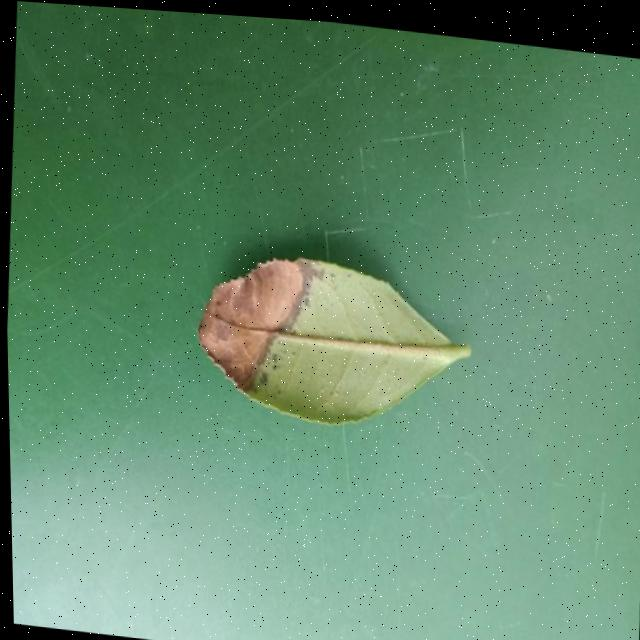Tea cloud leaf blight: (194, 244, 319, 398)
